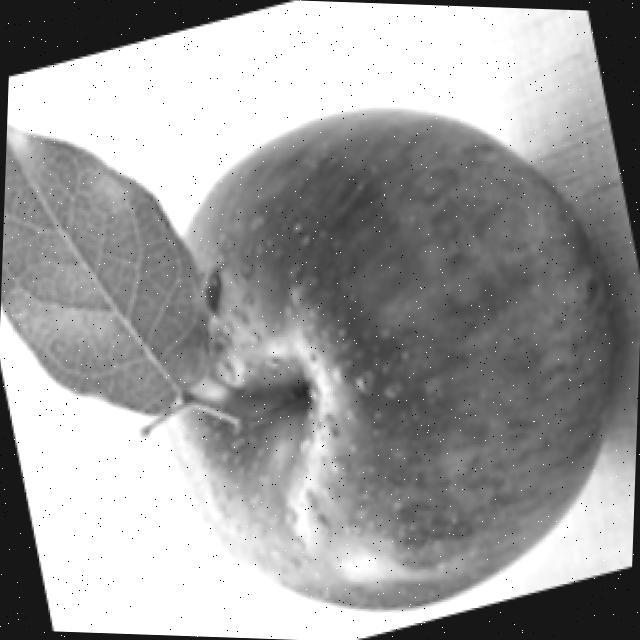Ripe: (144, 91, 631, 622)
